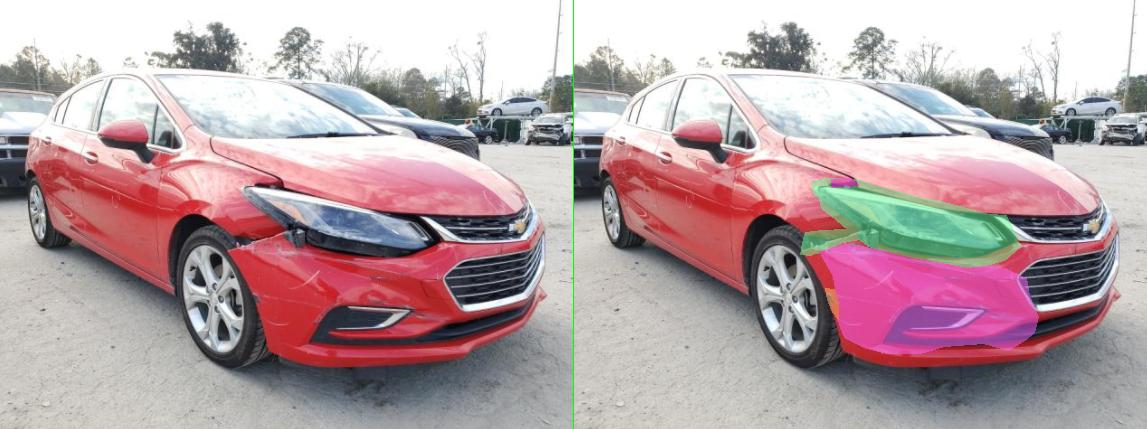Broken part: (474, 178, 893, 267), (452, 224, 591, 255)
Dent: (490, 243, 929, 353), (514, 178, 570, 187)
Paint chip: (502, 288, 528, 319)
Scratch: (711, 294, 913, 327), (566, 267, 643, 298), (482, 244, 611, 258), (727, 270, 817, 285), (538, 315, 599, 331)
